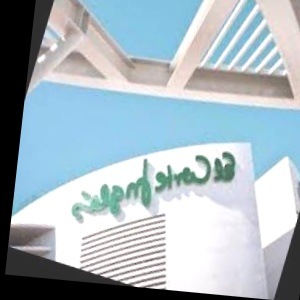corte_ingles: (90, 86, 300, 278)
